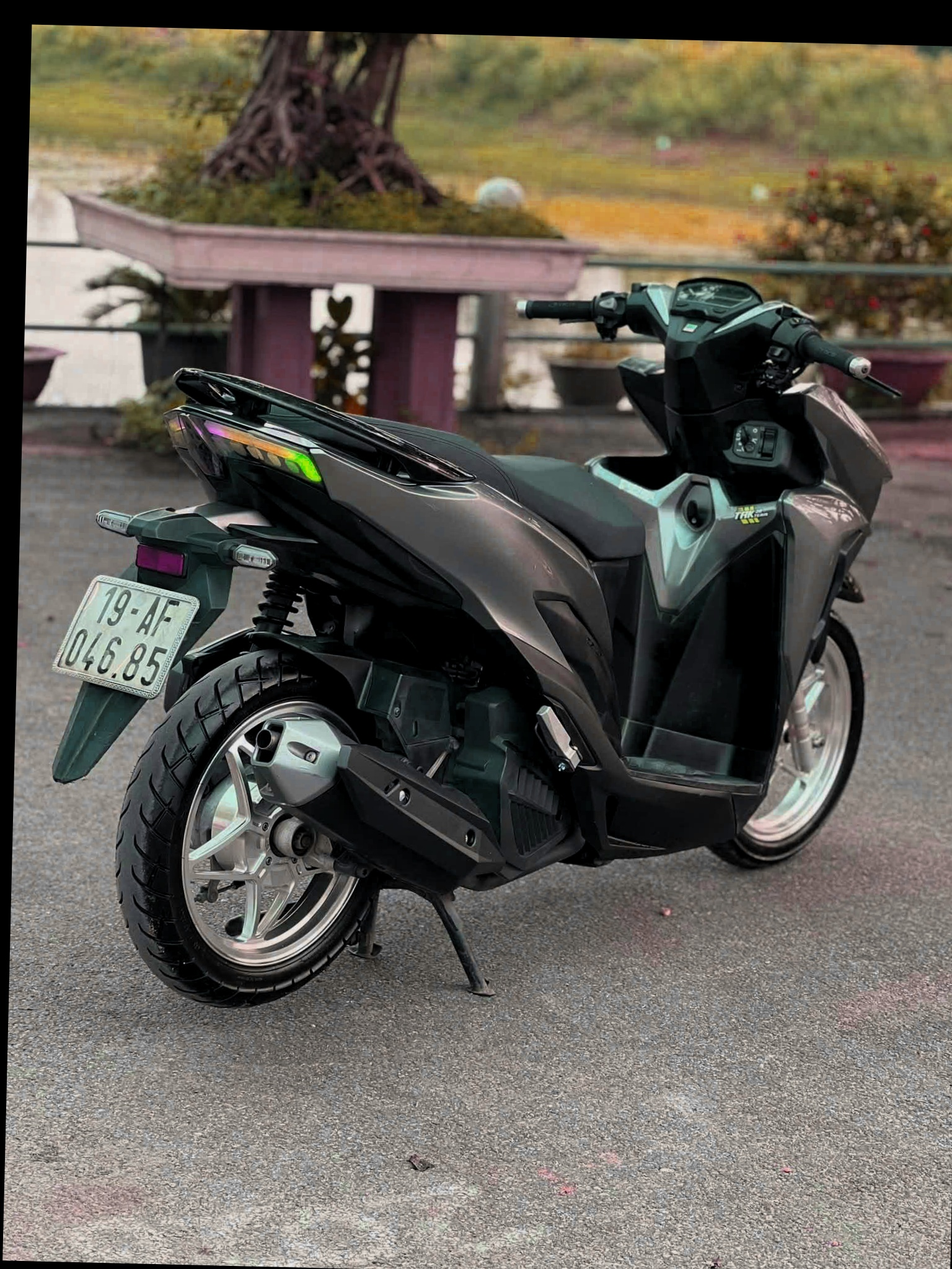Bien-so: (55, 571, 202, 700)
